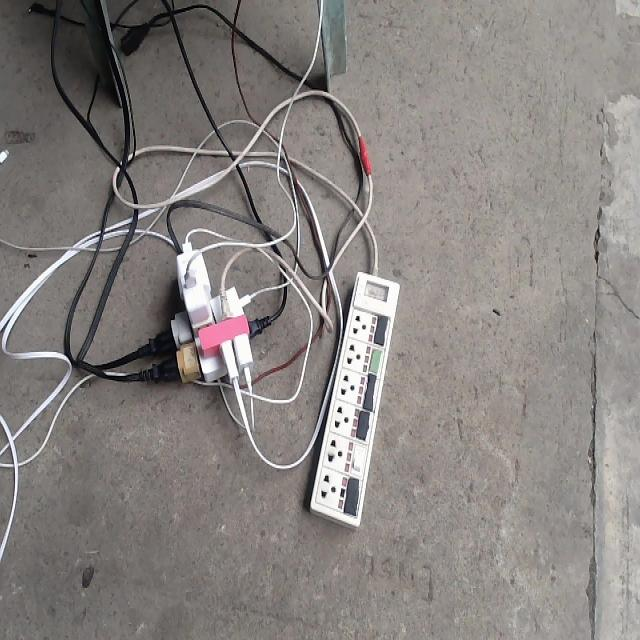-: (137, 240, 272, 388)
